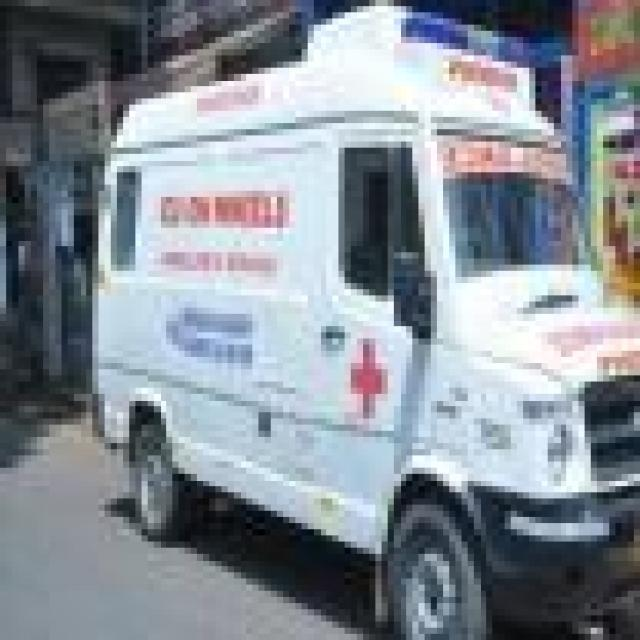emergency-vehicle: (71, 3, 637, 637)
